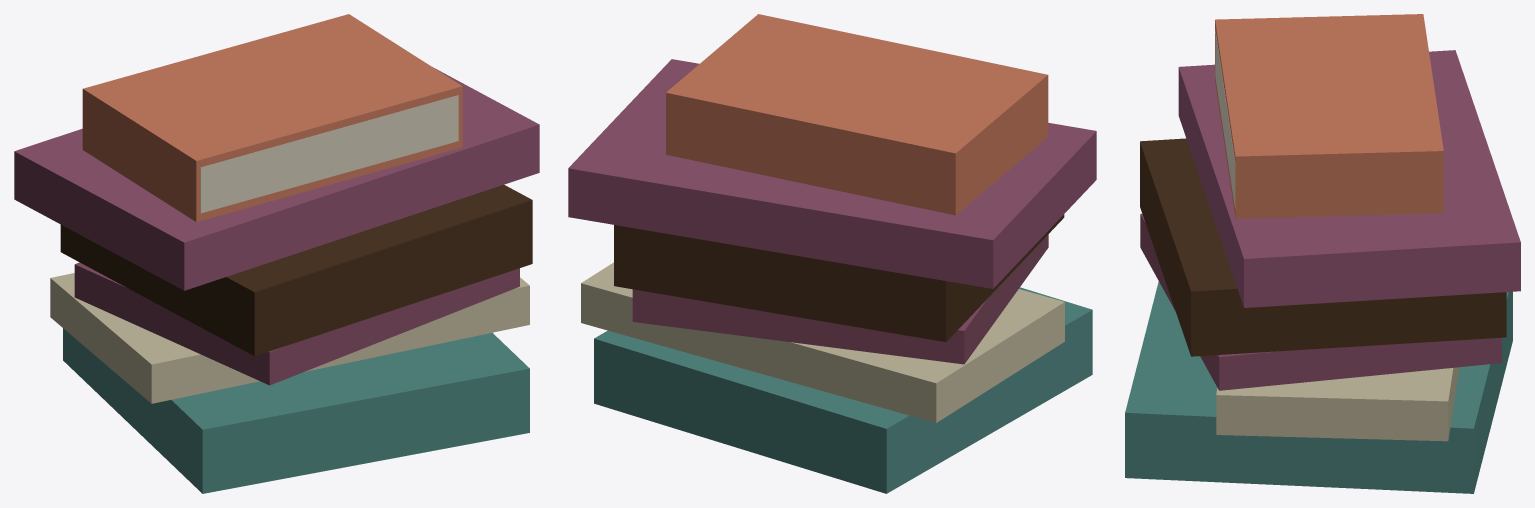
Rendered from book-stack-10.glb.
3 views of the same model, side by side, from view 1: azimuth 30°, elevation 25°; view 2: azimuth 150°, elevation 25°; view 3: azimuth 270°, elevation 25° (orthographic).
Visible parts, largest first — view 1: book_stack_10; view 2: book_stack_10; view 3: book_stack_10.
Part boxes in pixels (box(x1,y1,x2,y2)): book_stack_10: box(14, 14, 539, 493); book_stack_10: box(568, 14, 1096, 493); book_stack_10: box(1125, 14, 1520, 493).
Size of the model in its own units: 0.3067 by 0.2155 by 0.2454.
